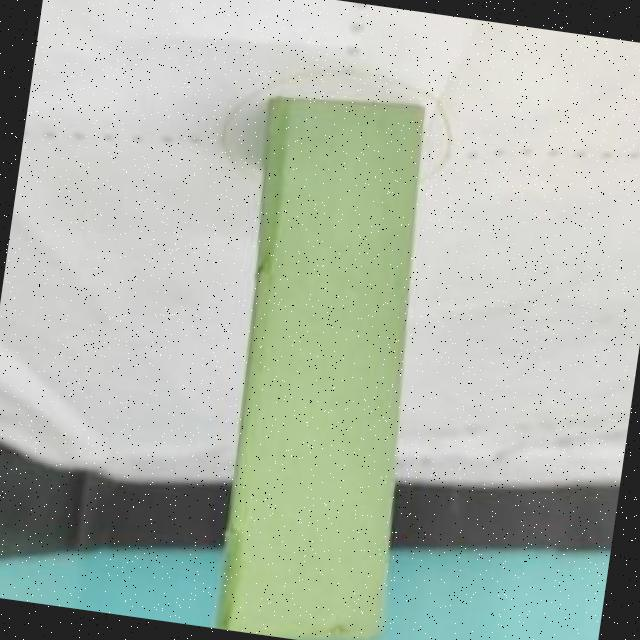greenbox: (195, 83, 457, 640)
